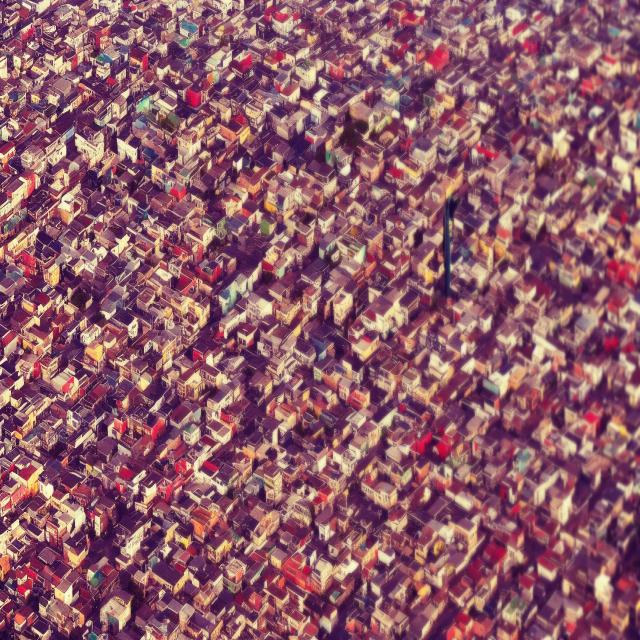airplane: (442, 194, 461, 290)
